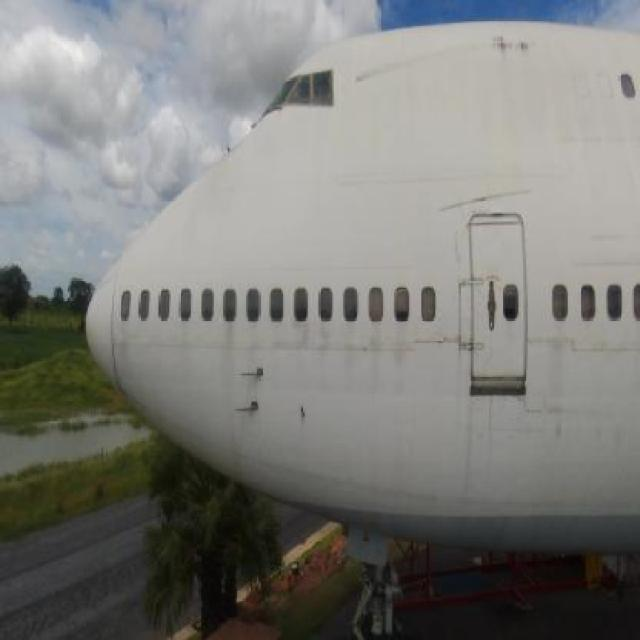Missing-Rivet: (454, 261, 489, 354)
Scartch: (348, 43, 446, 95), (438, 172, 534, 214), (484, 29, 538, 60), (410, 332, 453, 362)
